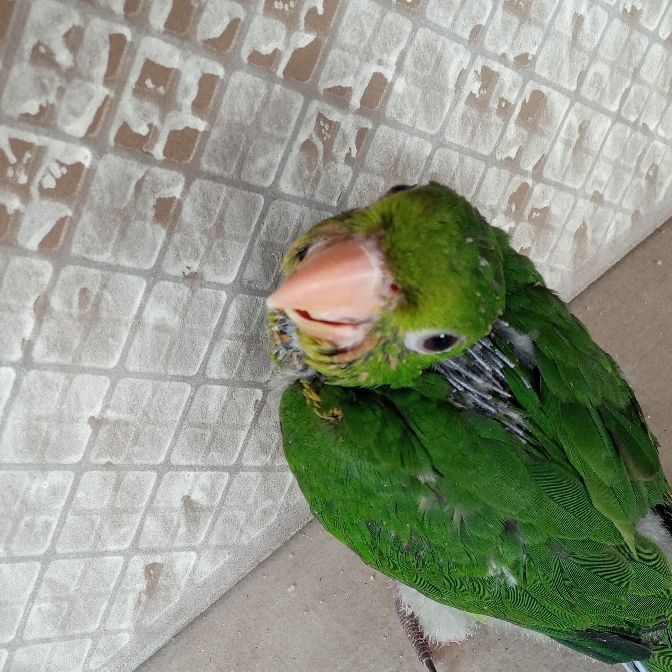Not_a_Chicken: (254, 174, 642, 663)
